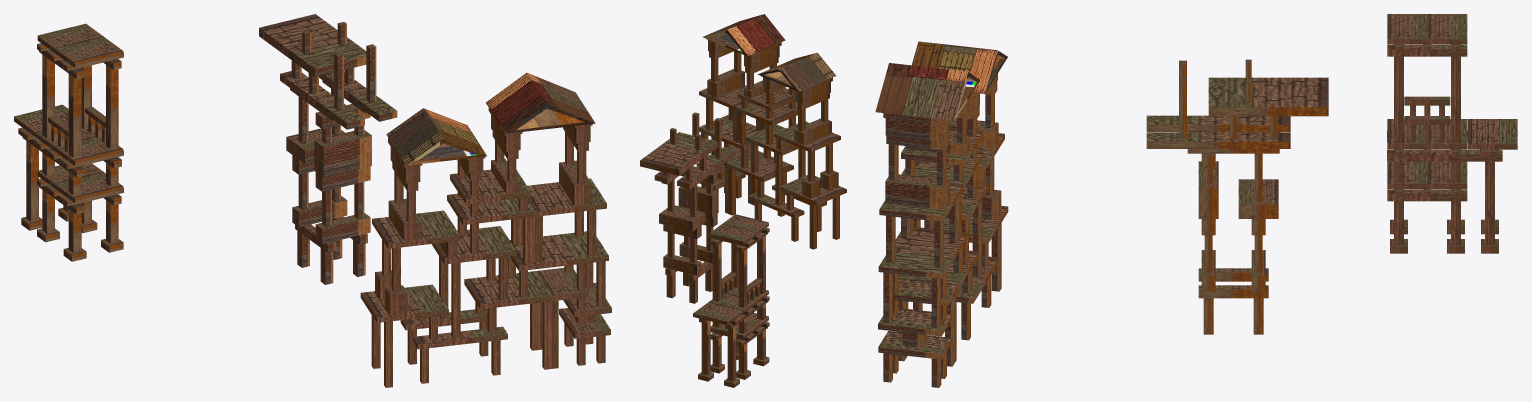
File: M6_Dynamic1Wood_1kg.fbx
3 renders of one model, left to right at view 1: azimuth 30°, elevation 25°; view 2: azimuth 150°, elevation 25°; view 3: azimuth 270°, elevation 25°, orthographic. The views are drawn at different scales.
Parts seen in each view (by area): view 1: D1Box51, D1Box73, D1Box140, D1Box161, D1Box25, D1Box4, D1Box82, D1Box75, D1Box32, D1Box74, D1Box44, D1Box153 (+34 smaller); view 2: D1Box51, D1Box140, D1Box73, D1Box4, D1Box151, D1Box161, D1Box82, D1Box153, D1Box135, D1Box55, D1Box44, D1Box75 (+50 smaller); view 3: D1Box140, D1Box51, D1Box25, D1Box73, D1Box152, D1Box153, D1Box55, D1Box135, D1Box151, D1Box12, D1Box14, D1Box126 (+27 smaller).
Boxes of the visible parts, box(x1,y1,x2,y2) form: D1Box51: box(486, 72, 595, 133); D1Box73: box(386, 108, 486, 165); D1Box140: box(259, 14, 366, 76); D1Box161: box(314, 130, 371, 177); D1Box25: box(510, 231, 608, 270); D1Box4: box(464, 271, 552, 309); D1Box82: box(360, 284, 448, 322); D1Box75: box(372, 210, 460, 248); D1Box32: box(431, 226, 516, 264); D1Box74: box(527, 178, 606, 216); D1Box44: box(447, 193, 534, 224); D1Box153: box(280, 71, 364, 129); D1Box51: box(702, 14, 785, 56); D1Box140: box(640, 132, 718, 175); D1Box73: box(758, 52, 836, 91); D1Box4: box(727, 151, 793, 181); D1Box151: box(659, 205, 705, 231); D1Box161: box(678, 186, 718, 217); D1Box82: box(780, 175, 846, 205); D1Box153: box(677, 147, 736, 188); D1Box135: box(693, 301, 742, 324); D1Box55: box(707, 69, 744, 97); D1Box44: box(736, 101, 797, 125); D1Box75: box(774, 121, 840, 152); D1Box140: box(1208, 77, 1328, 116); D1Box51: box(875, 63, 979, 120); D1Box25: box(878, 227, 967, 278); D1Box73: box(912, 41, 1007, 93); D1Box152: box(1146, 132, 1290, 148); D1Box153: box(1146, 115, 1290, 131); D1Box55: box(885, 174, 950, 209); D1Box135: box(1467, 119, 1517, 149); D1Box151: box(1238, 179, 1278, 218); D1Box12: box(878, 308, 952, 336); D1Box14: box(878, 331, 951, 359); D1Box126: box(1427, 14, 1467, 44).
Size of what is drawn, in the model's own units: 39.19 by 32 by 64.32.
